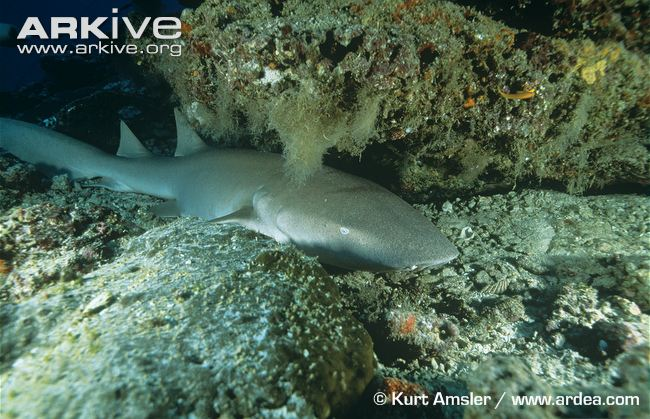shark: (5, 89, 469, 289)
